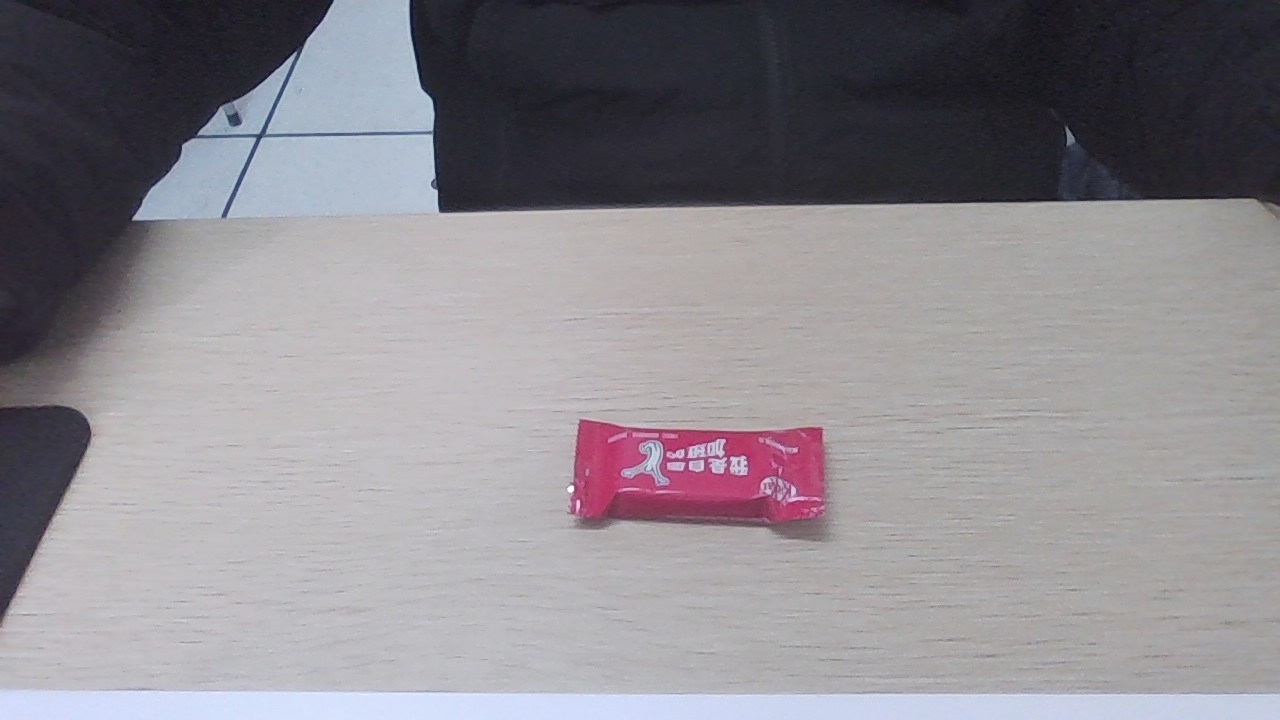CY-chocolate: (571, 420, 824, 520)
